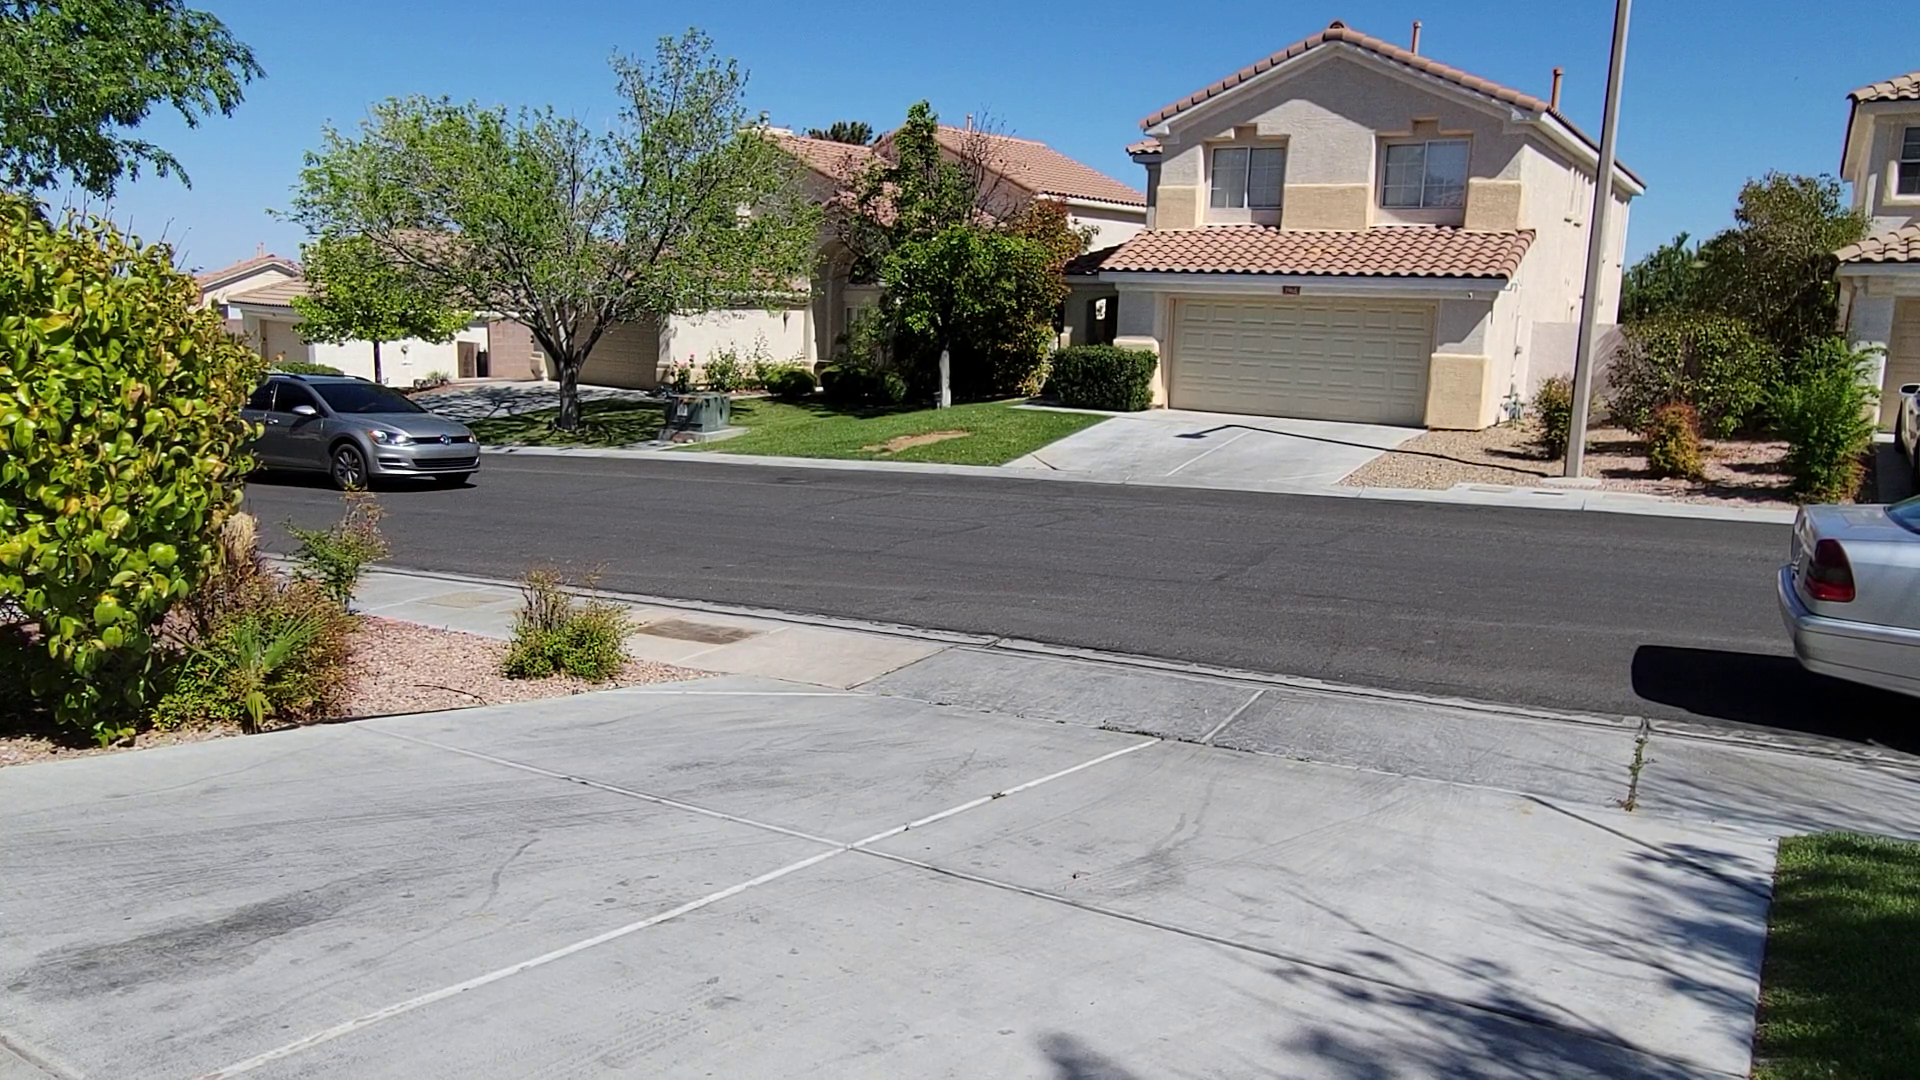car: (223, 367, 484, 489)
